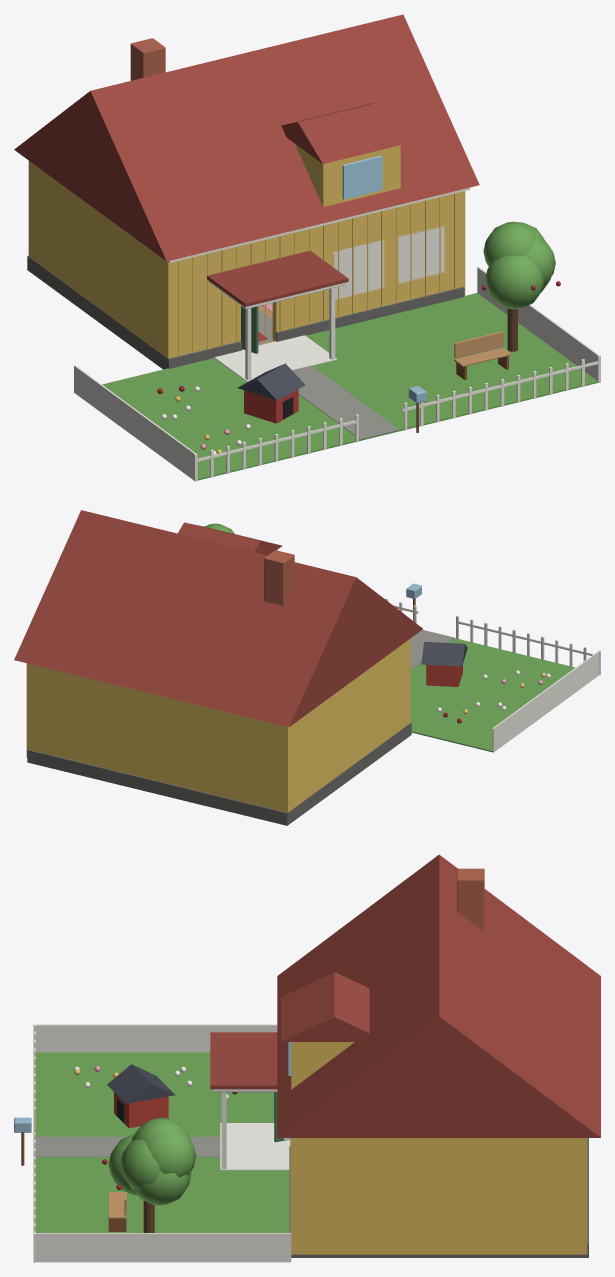
File: my-home.glb
3 renders of one model, top to bottom at view 1: azimuth 30°, elevation 25°; view 2: azimuth 150°, elevation 25°; view 3: azimuth 270°, elevation 25°, orthographic. The views are drawn at different scales.
Parts seen in each view (by area): view 1: Shell_Roof, Garden_lawn, Wall_side_-1, Wall_front_a, Wall_front_c, Upper_dormer_roof, Porch_cap, Garden_side_fence, Wall_front_b, Garden_path, Upper_dormer, Porch_floor (+21 smaller); view 2: Shell_Roof, Wall_back, Wall_side_-1, Garden_lawn, Wall_plinth_back, Garden_side_fence, Wall_plinth_side, Upper_chimney, Upper_dormer_roof, Garden_doghouse_roof, Garden_doghouse, Garden_path; view 3: Shell_Roof, Wall_side_1, Garden_lawn, Garden_side_fence.001, Garden_side_fence, Upper_dormer_roof, Porch_cap, Porch_floor, Garden_path, Garden_apple_crown, Garden_doghouse_roof, Upper_dormer (+7 smaller).
Boxes of the visible parts, x1=… form: Shell_Roof: x1=14, y1=14, x2=479, y2=261; Garden_lawn: x1=102, y1=293, x2=597, y2=480; Wall_side_-1: x1=28, y1=161, x2=171, y2=358; Wall_front_a: x1=171, y1=246, x2=240, y2=357; Wall_front_c: x1=276, y1=192, x2=461, y2=258; Upper_dormer_roof: x1=281, y1=101, x2=409, y2=163; Porch_cap: x1=207, y1=251, x2=348, y2=306; Garden_side_fence: x1=74, y1=365, x2=196, y2=480; Wall_front_b: x1=272, y1=268, x2=461, y2=341; Garden_path: x1=292, y1=365, x2=398, y2=439; Upper_dormer: x1=295, y1=144, x2=400, y2=206; Porch_floor: x1=214, y1=335, x2=337, y2=381; Shell_Roof: x1=14, y1=510, x2=422, y2=726; Wall_back: x1=29, y1=664, x2=284, y2=811; Wall_side_-1: x1=283, y1=638, x2=410, y2=812; Garden_lawn: x1=410, y1=638, x2=575, y2=752; Wall_plinth_back: x1=27, y1=750, x2=285, y2=825; Garden_side_fence: x1=492, y1=651, x2=599, y2=752; Wall_plinth_side: x1=282, y1=722, x2=411, y2=825; Upper_chimney: x1=264, y1=550, x2=294, y2=605; Upper_dormer_roof: x1=177, y1=522, x2=282, y2=555; Garden_doghouse_roof: x1=421, y1=641, x2=467, y2=666; Garden_doghouse: x1=426, y1=664, x2=462, y2=686; Garden_path: x1=410, y1=629, x2=454, y2=669; Shell_Roof: x1=277, y1=854, x2=600, y2=1137; Wall_side_1: x1=291, y1=1138, x2=587, y2=1254; Garden_lawn: x1=35, y1=1052, x2=289, y2=1232; Garden_side_fence.001: x1=35, y1=1233, x2=291, y2=1262; Garden_side_fence: x1=34, y1=1024, x2=277, y2=1052; Upper_dormer_roof: x1=281, y1=972, x2=369, y2=1041; Porch_cap: x1=210, y1=1032, x2=277, y2=1089; Porch_floor: x1=220, y1=1123, x2=290, y2=1170; Garden_path: x1=35, y1=1136, x2=220, y2=1156; Garden_apple_crown: x1=144, y1=1129, x2=196, y2=1177; Garden_doghouse_roof: x1=107, y1=1064, x2=175, y2=1103; Upper_dormer: x1=291, y1=1042, x2=354, y2=1089.
Bounding box in the file's own units: 12.82 × 7.4 × 14.88.
